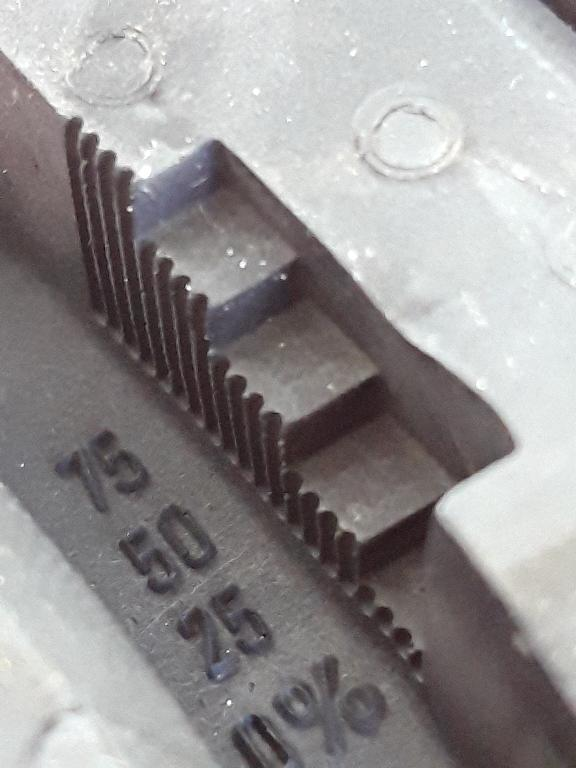temoin:100: (60, 109, 524, 701)
